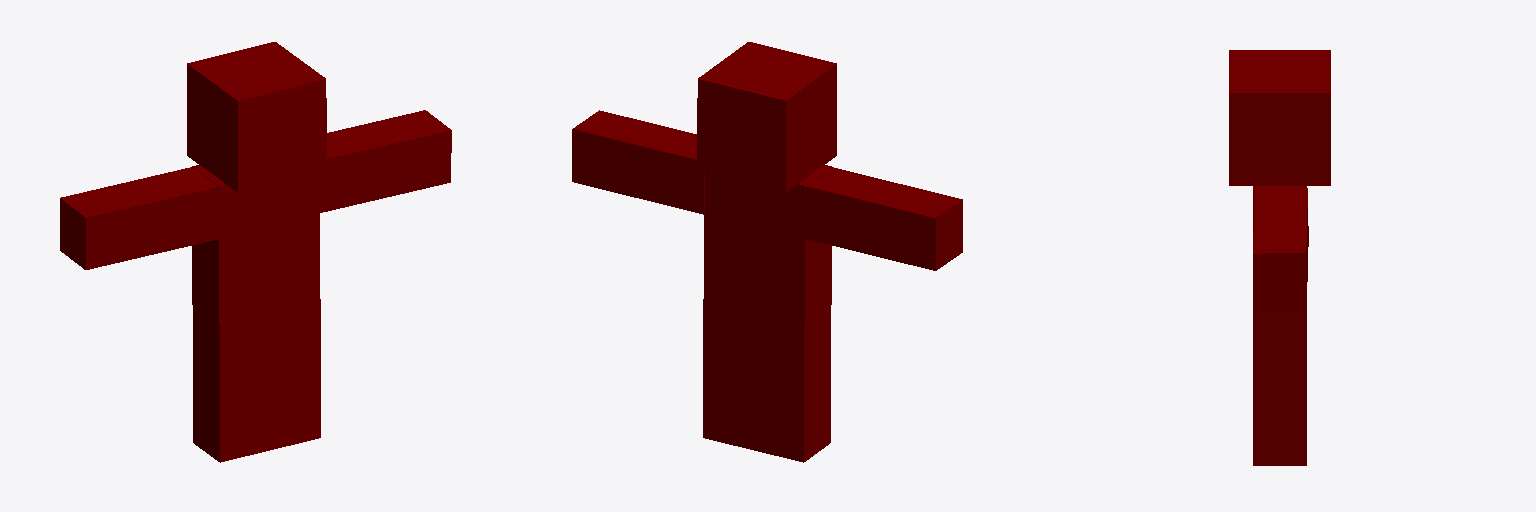
The model's file is red13.obj.
3 views of the same model, side by side, from view 1: azimuth 30°, elevation 25°; view 2: azimuth 150°, elevation 25°; view 3: azimuth 270°, elevation 25° (orthographic).
Visible parts, largest first — view 1: mesh01; view 2: mesh01; view 3: mesh01.
Boxes of the visible parts, x1,y1,x2,y2 form: mesh01: [60, 42, 451, 462]; mesh01: [572, 42, 962, 462]; mesh01: [1229, 50, 1330, 465].
Size of the model in its own units: 4.13 by 3.99 by 1.